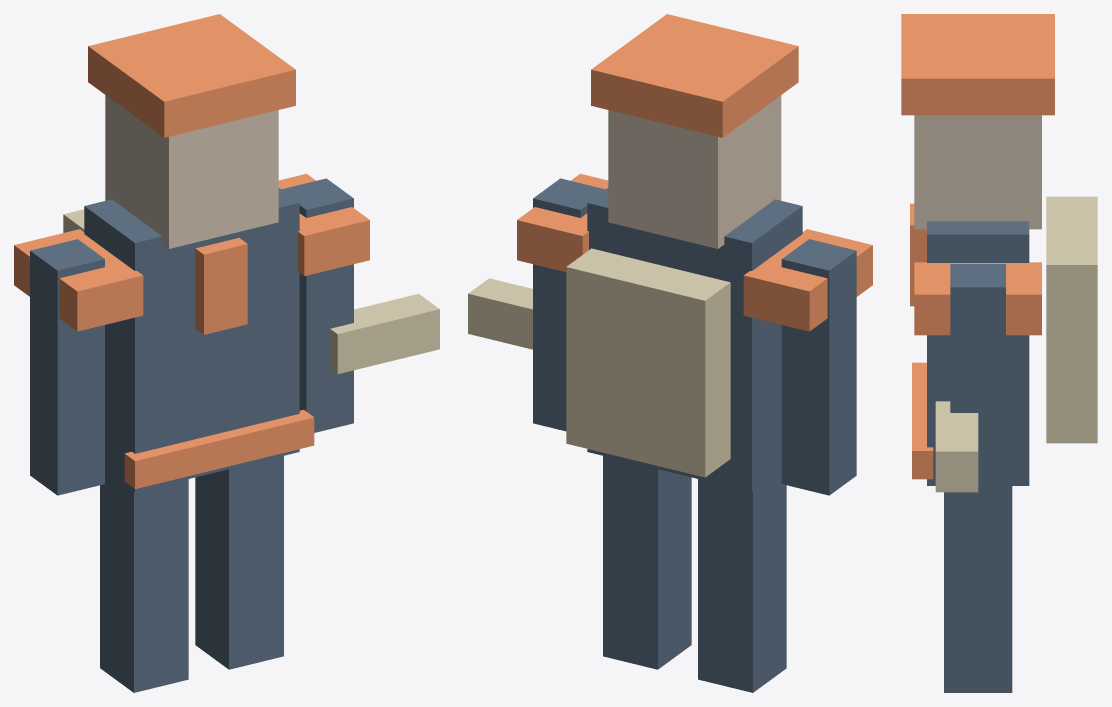
Rendered from 08_edda_wayfare_ranger_at_missile.glb.
3 renders of one model, left to right at view 1: azimuth 30°, elevation 25°; view 2: azimuth 150°, elevation 25°; view 3: azimuth 270°, elevation 25°, orthographic.
Parts seen in each view (by area): view 1: Edda Wayfare, Ranger at Missile; view 2: Edda Wayfare, Ranger at Missile; view 3: Edda Wayfare, Ranger at Missile.
Boxes of the visible parts, x1,y1,x2,y2 form: Edda Wayfare, Ranger at Missile: (14, 14, 439, 692); Edda Wayfare, Ranger at Missile: (468, 14, 872, 692); Edda Wayfare, Ranger at Missile: (901, 14, 1097, 692).
Size of the model in its own units: 0.9837 by 1.52 by 0.4415.
